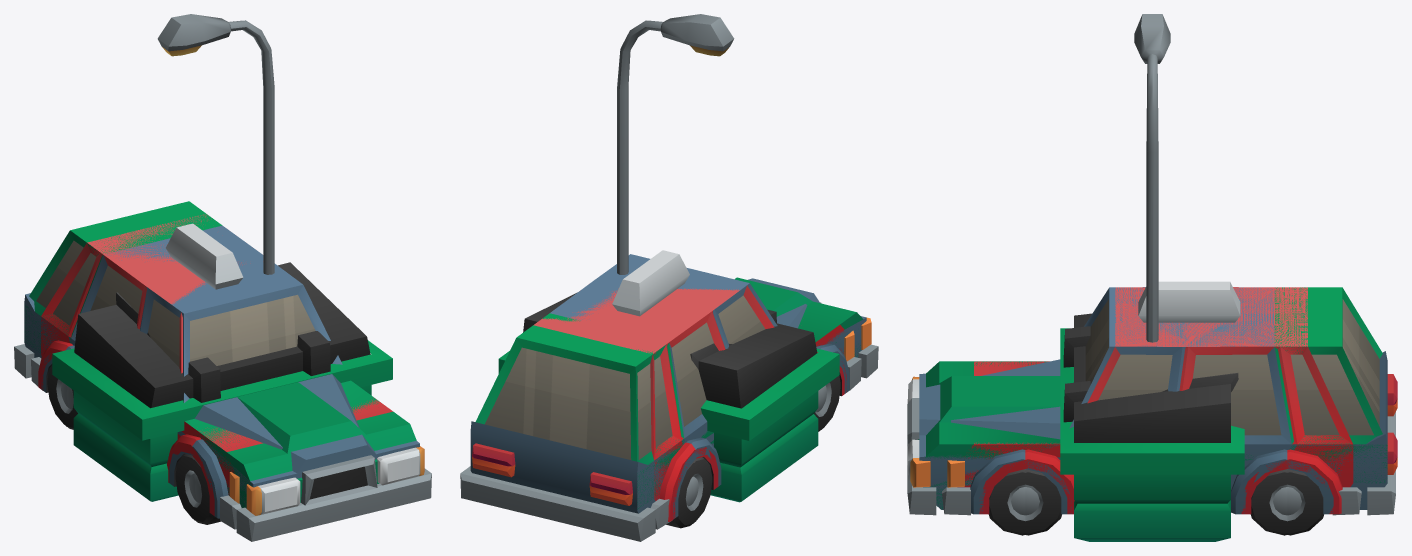
The model's file is props-iz_OpF7V.glb.
3 renders of one model, left to right at view 1: azimuth 30°, elevation 25°; view 2: azimuth 150°, elevation 25°; view 3: azimuth 270°, elevation 25°, orthographic. The views are drawn at different scales.
Parts seen in each view (by area): view 1: car_sedan, dumpster, car_stationwagon, car_hatchback, streetlight, car_taxi; view 2: car_sedan, car_stationwagon, dumpster, car_hatchback, streetlight, car_taxi; view 3: car_sedan, car_hatchback, dumpster, car_stationwagon, streetlight, car_taxi.
Part boxes in pixels (x1,y1,x2,y2): car_sedan: (14, 225, 431, 541); dumpster: (52, 262, 392, 501); car_stationwagon: (24, 201, 416, 508); car_hatchback: (31, 214, 392, 529); streetlight: (157, 14, 274, 274); car_taxi: (166, 223, 243, 519); car_sedan: (460, 254, 878, 541); car_stationwagon: (475, 277, 862, 509); dumpster: (498, 292, 839, 502); car_hatchback: (533, 285, 861, 529); streetlight: (617, 14, 734, 274); car_taxi: (612, 250, 689, 316); car_sedan: (907, 287, 1397, 515); car_hatchback: (942, 287, 1361, 535); dumpster: (1060, 313, 1244, 541); car_stationwagon: (918, 287, 1387, 535); streetlight: (1134, 14, 1170, 342); car_taxi: (1138, 281, 1240, 322).
Size of the model in its own units: 2.47 by 4.2 by 4.1.
Materials: 13 (13 with a texture image).
